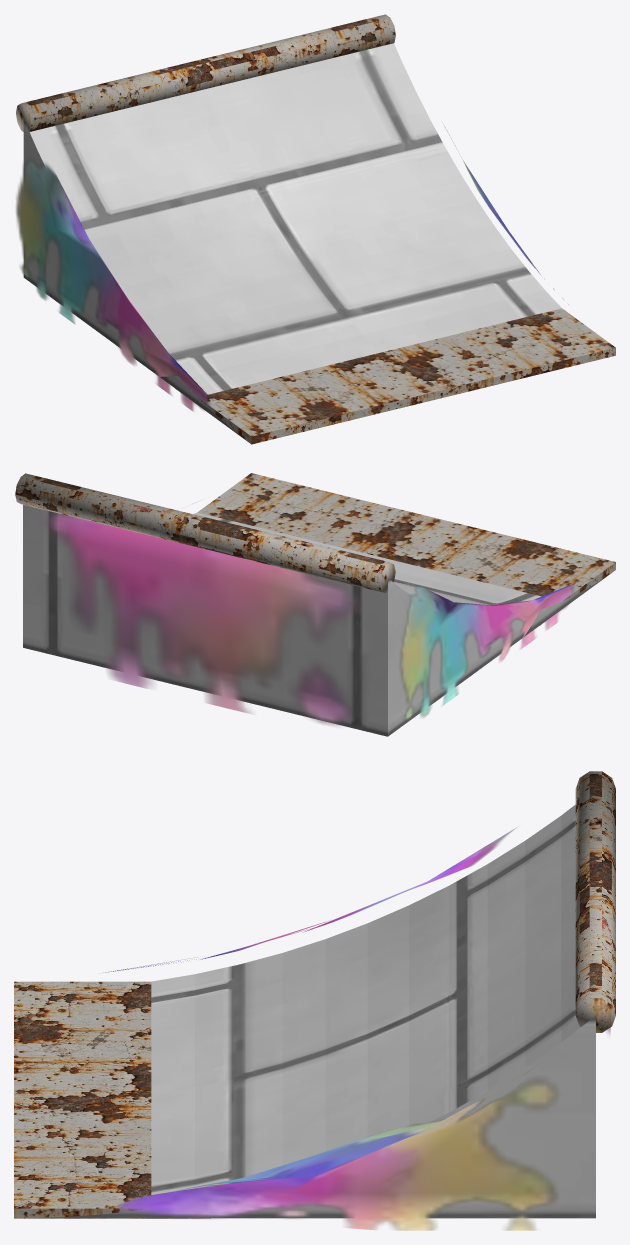
Rendered from Kicker.glb.
3 views of the same model, one above another, from view 1: azimuth 30°, elevation 25°; view 2: azimuth 150°, elevation 25°; view 3: azimuth 270°, elevation 25° (orthographic). The views are drawn at different scales.
Parts seen in each view (by area): view 1: Kicker_Body, Kicker_Lip, Kicker_Paint; view 2: Kicker_Paint, Kicker_Body, Kicker_Lip; view 3: Kicker_Body, Kicker_Lip, Kicker_Paint.
Boxes of the visible parts, <box> form: Kicker_Body: <box>23,43,561,440</box>; Kicker_Lip: <box>16,14,615,444</box>; Kicker_Paint: <box>16,126,568,411</box>; Kicker_Paint: <box>42,500,580,726</box>; Kicker_Body: <box>23,505,610,736</box>; Kicker_Lip: <box>15,473,615,625</box>; Kicker_Body: <box>28,804,595,1218</box>; Kicker_Lip: <box>14,771,615,1218</box>; Kicker_Paint: <box>103,828,610,1230</box>.
Bounding box in the file's own units: 1.26 × 0.5768 × 1.34.
Materials: 3 (3 with a texture image).
